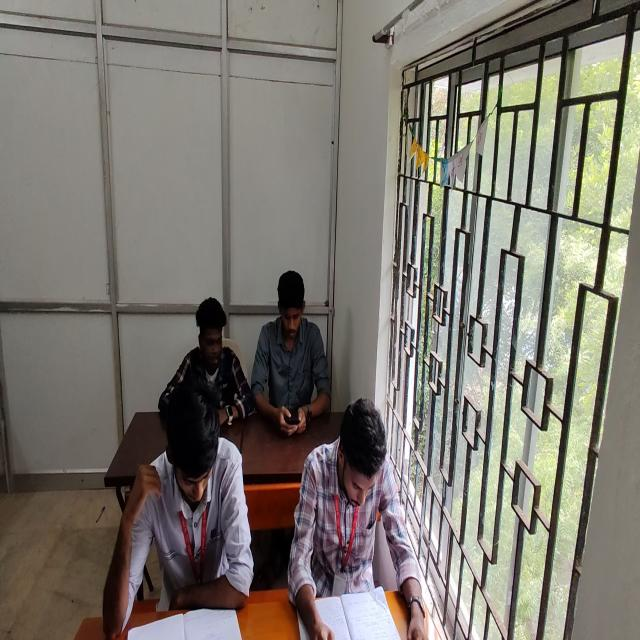reading: (104, 378, 254, 638), (284, 397, 402, 640)
using_mobile: (158, 296, 256, 431), (250, 272, 328, 435)
